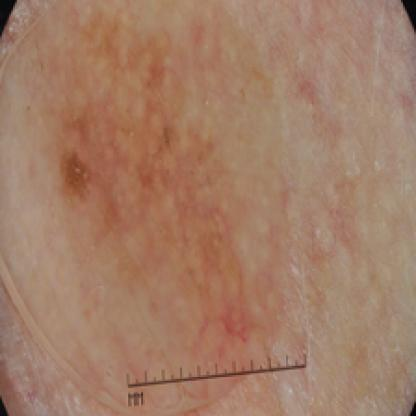malignant: (52, 78, 225, 230)
